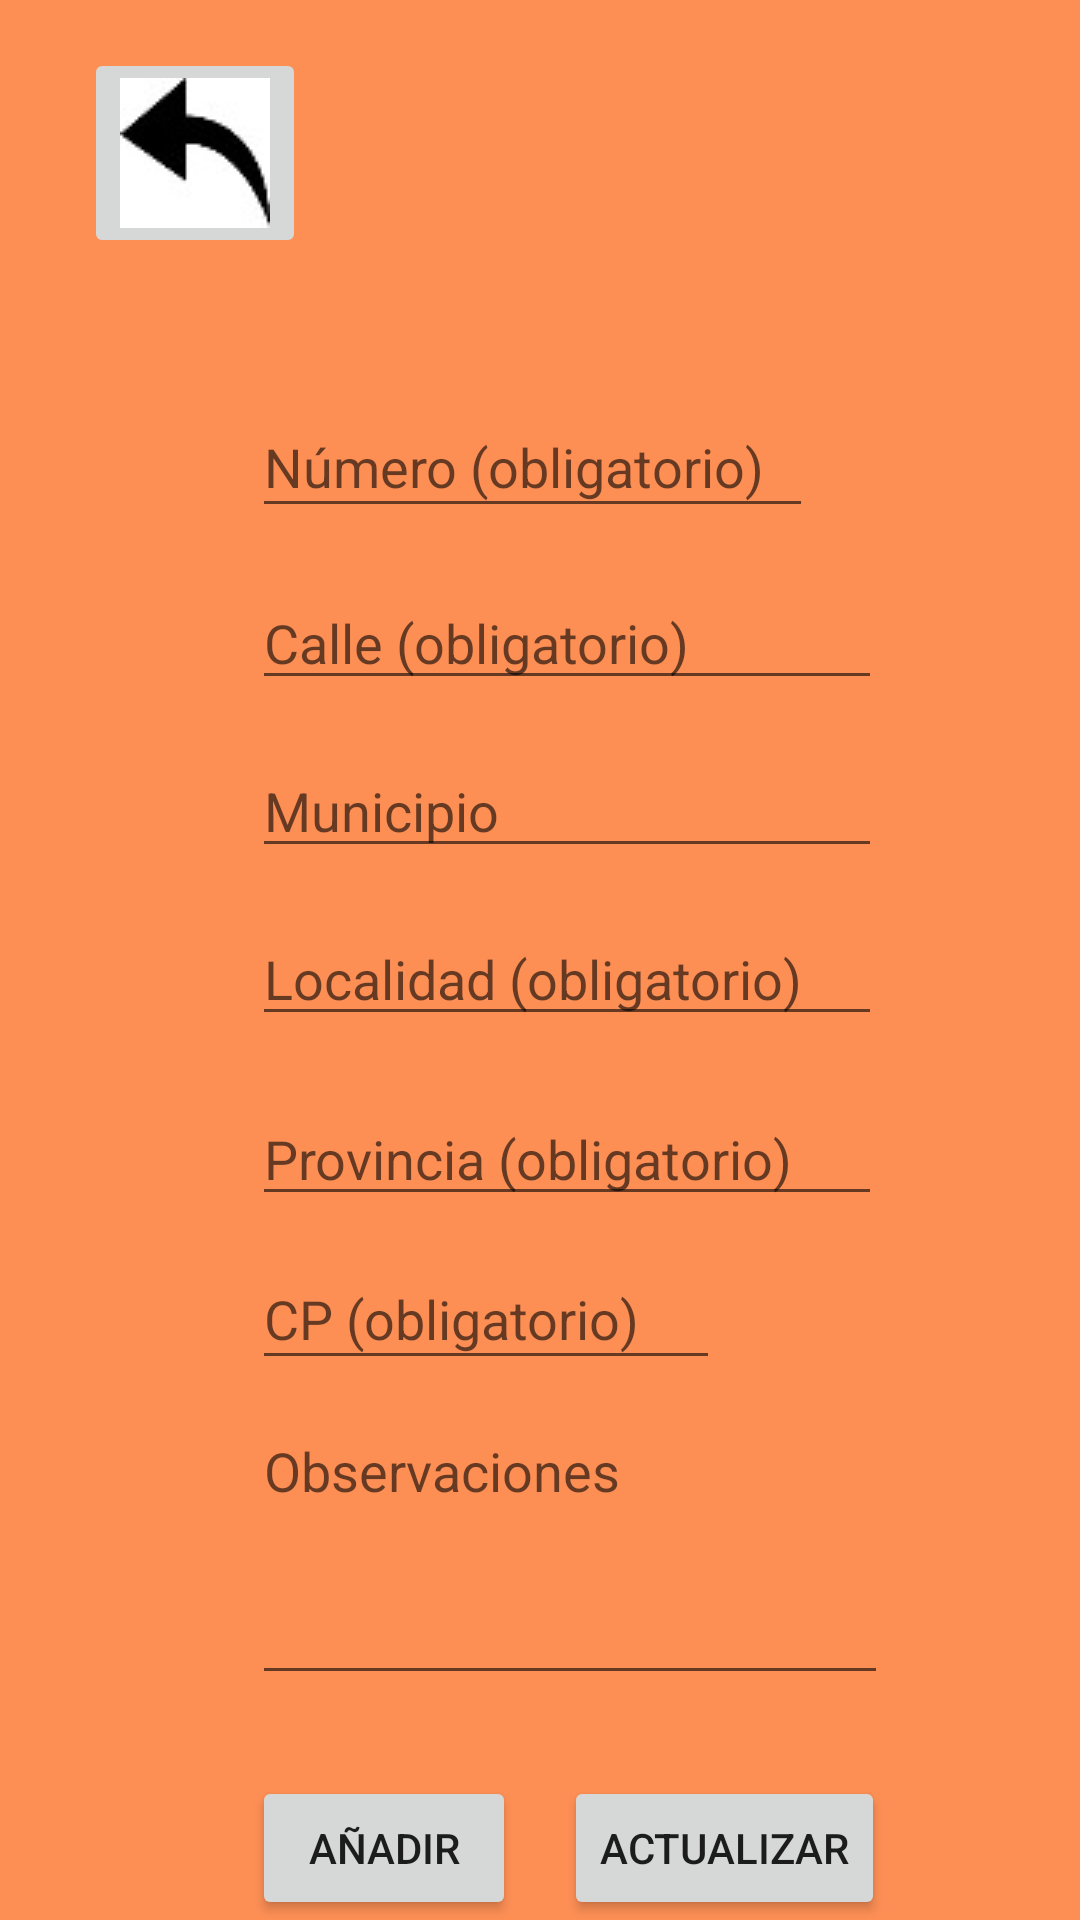

Named icons in this screenshot (1080px x 1920px) and their centers, point (x, y):
volver: point (195, 153)
